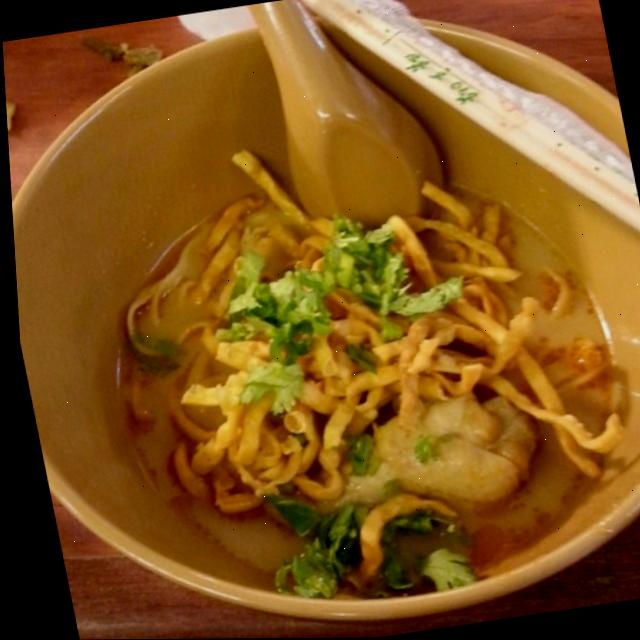面条主食: (31, 72, 640, 640)
